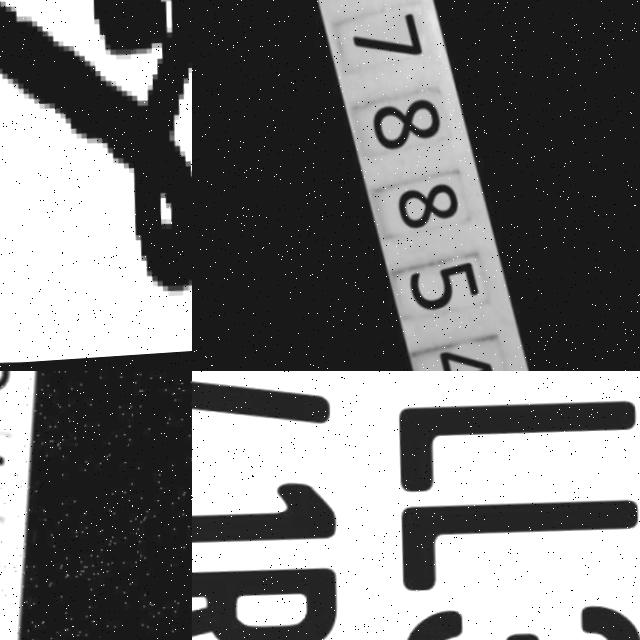1: (192, 472, 334, 553)
3: (398, 602, 640, 640)
4: (192, 371, 334, 474), (409, 333, 500, 371)
5: (390, 248, 489, 324)
7: (335, 1, 435, 78)
8: (354, 83, 455, 162), (379, 168, 470, 240)
L: (387, 495, 640, 601), (392, 396, 636, 504)
R: (192, 561, 338, 640)
T: (0, 0, 192, 319)
